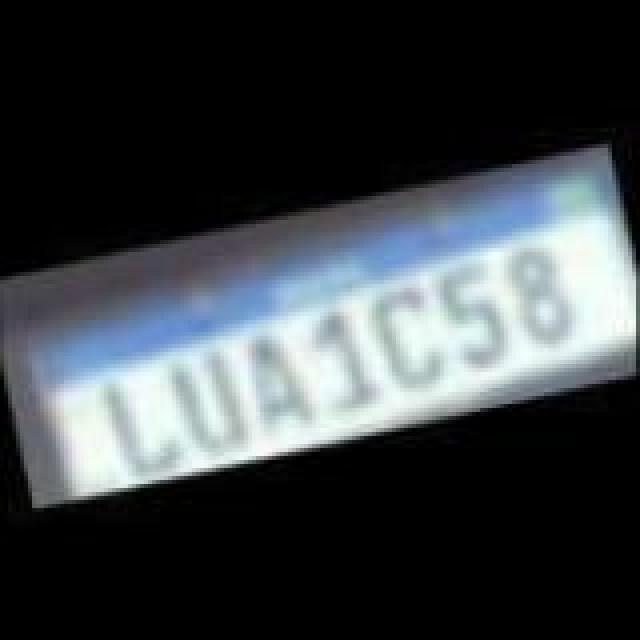1: (300, 288, 388, 420)
5: (426, 248, 514, 368)
8: (498, 228, 586, 356)
A: (236, 320, 324, 440)
C: (360, 272, 452, 396)
L: (90, 354, 186, 482)
U: (158, 342, 258, 462)
